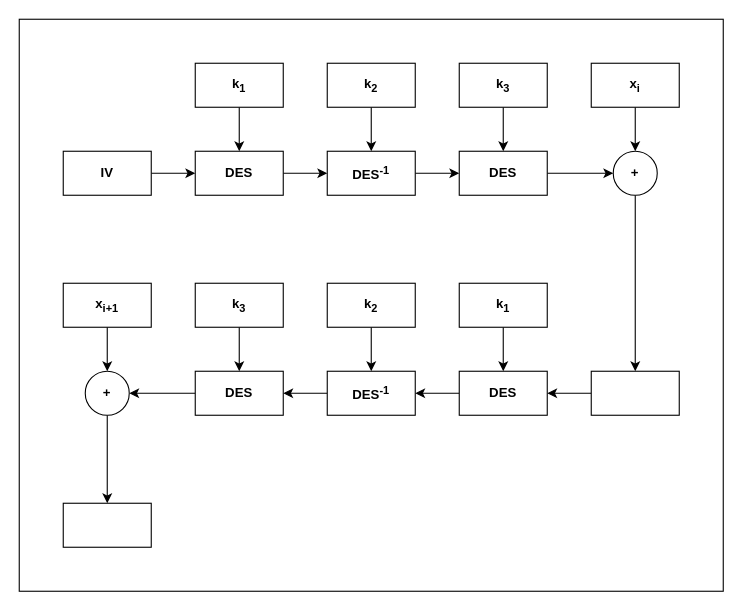
This 743x611 diagram has some shape labels left out. The centre of each missing label's shape, as x and y in pixels:
y i: pixel 634 392
y i+1: pixel 106 524
